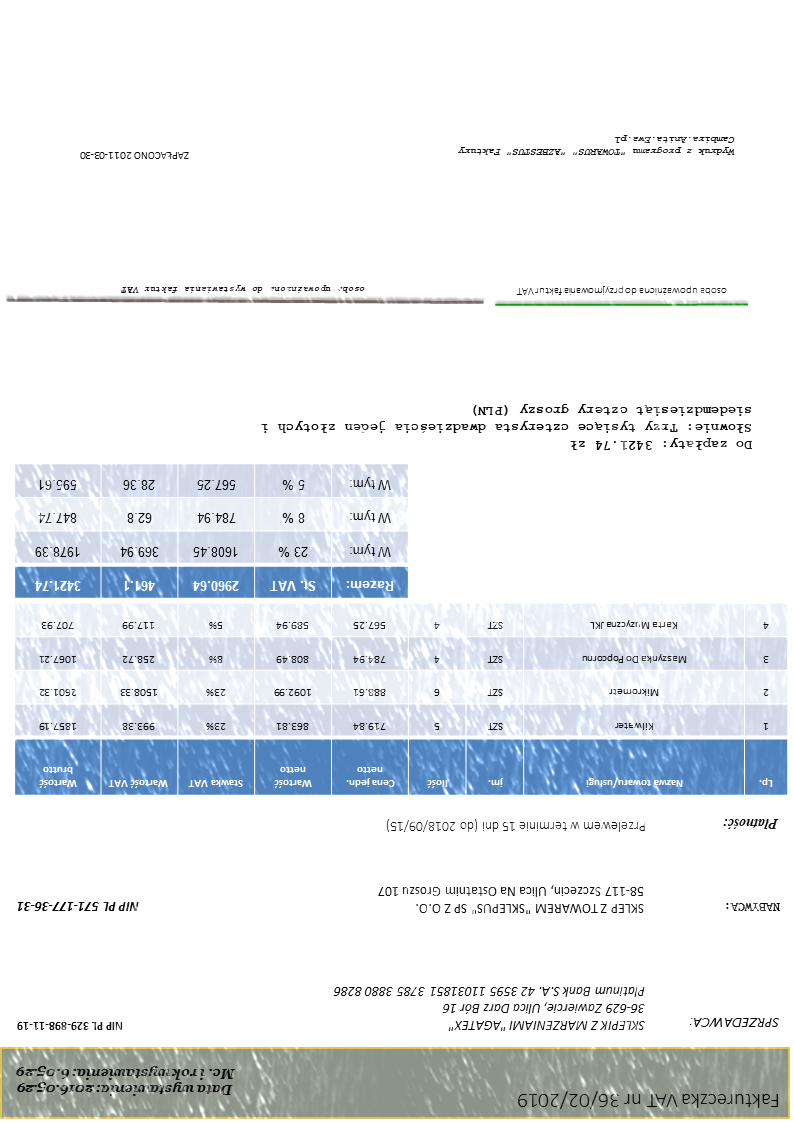Table: (15, 601, 790, 796), (15, 462, 409, 599)
TextBox: (256, 401, 756, 454), (331, 978, 650, 1036), (376, 882, 648, 917), (13, 1061, 239, 1101), (453, 131, 739, 158), (515, 1089, 784, 1114), (384, 817, 649, 834), (119, 283, 368, 297), (515, 284, 731, 298), (17, 1016, 127, 1036), (16, 898, 142, 915), (688, 1012, 784, 1033), (77, 148, 192, 164), (724, 898, 784, 916), (722, 816, 781, 833)
